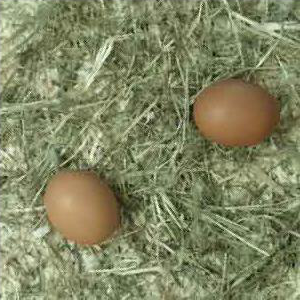egg: (193, 79, 278, 147), (44, 170, 121, 244)
